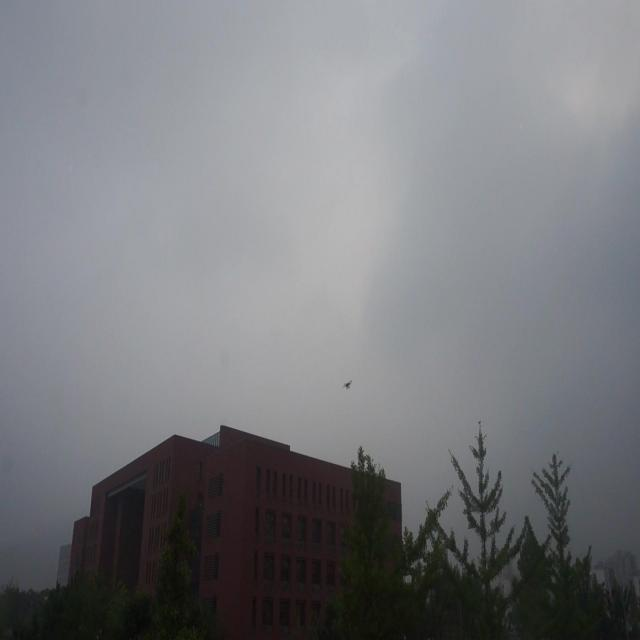UAV: (342, 380, 353, 390)
